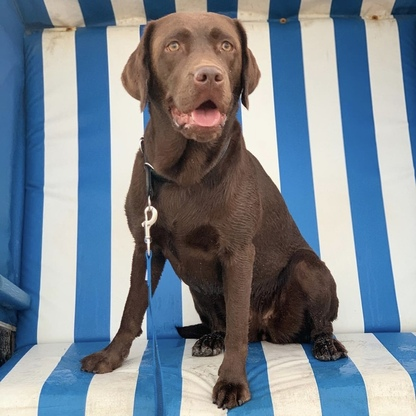labrado: (72, 10, 349, 413)
